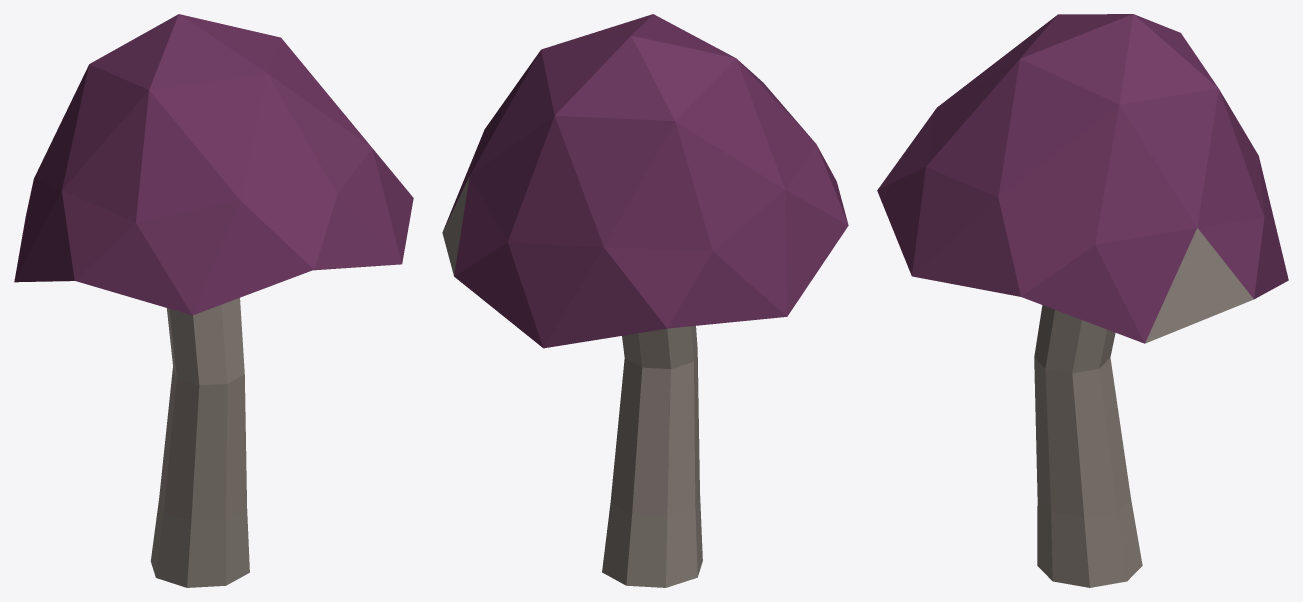
The model's file is BigShroom.fbx.
The picture shows the model from 3 angles, left to right: view 1: azimuth 30°, elevation 25°; view 2: azimuth 150°, elevation 25°; view 3: azimuth 270°, elevation 25°; orthographic projection. The views are drawn at different scales.
Parts seen in each view (by area): view 1: Big_Shroom; view 2: Big_Shroom; view 3: Big_Shroom.
Part boxes in pixels (bbox=[...]): Big_Shroom: bbox=[14, 14, 413, 587]; Big_Shroom: bbox=[442, 14, 848, 587]; Big_Shroom: bbox=[877, 14, 1288, 587].
Size of the model in its own units: 199 by 302 by 204.
